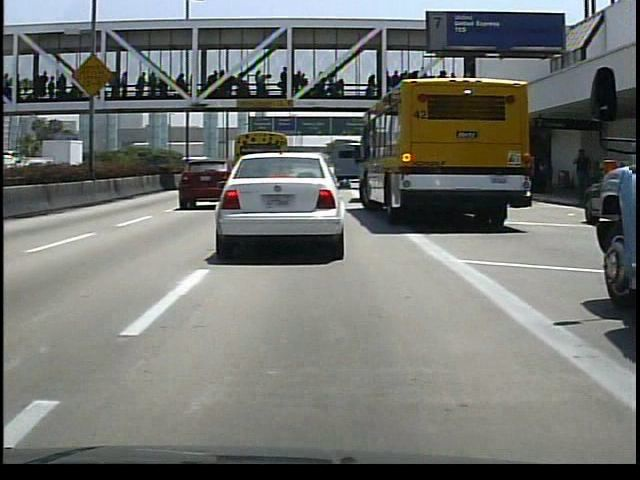person: (568, 145, 596, 207)
